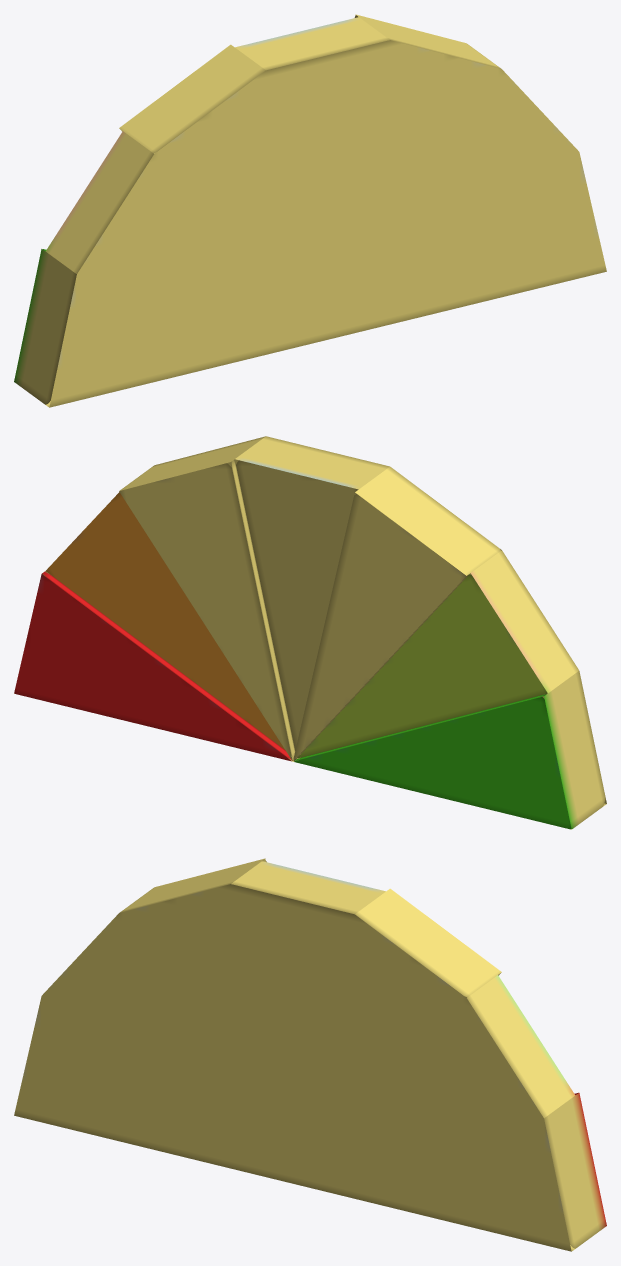
The model's file is gasMeasure.fbx.
3 renders of one model, top to bottom at view 1: azimuth 30°, elevation 25°; view 2: azimuth 150°, elevation 25°; view 3: azimuth 330°, elevation 25°, orthographic.
Parts seen in each view (by area): view 1: cylinder; view 2: cylinder; view 3: cylinder.
Boxes of the visible parts, x1,y1,x2,y2 form: cylinder: (14, 14, 606, 407); cylinder: (14, 436, 606, 829); cylinder: (14, 858, 606, 1251).
Bounding box in the file's own units: 128 × 62.5 × 14.06.
Materials: 1 (1 with a texture image).
